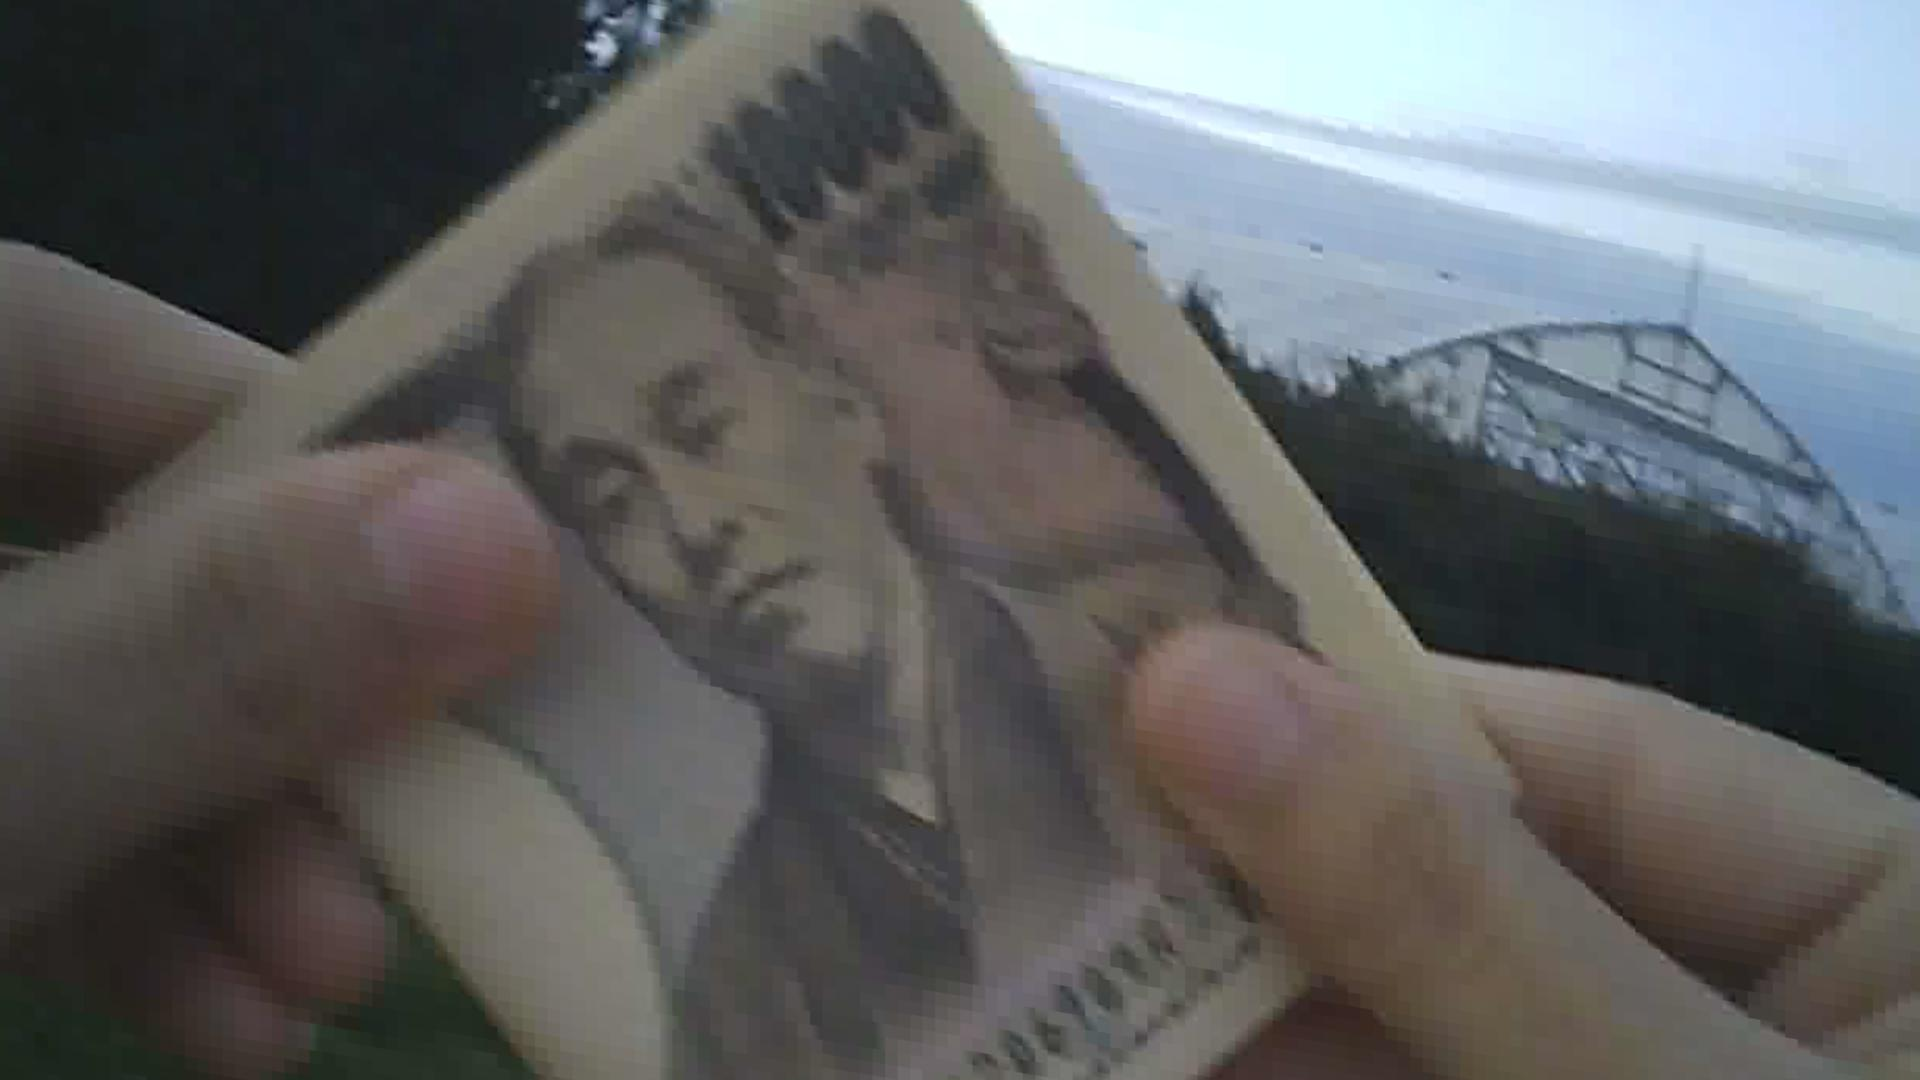10,000 Yen: (125, 30, 1494, 1079)
